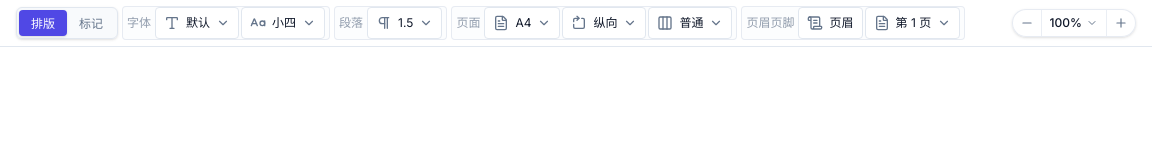
Test case: PaperToolbar Markdown tab › disables Markdown buttons when no question editor is open
The image size is (1152, 160).
Click the tab "标记". click: coordinates (91, 24)
box: x1=67 y1=10 x2=115 y2=38
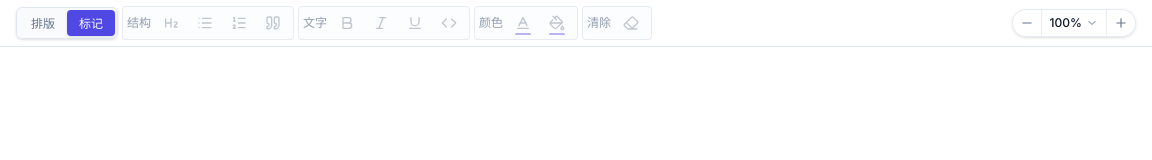
Expected: the button named "加粗" is disabled, x1=331 y1=7 x2=363 y2=39
